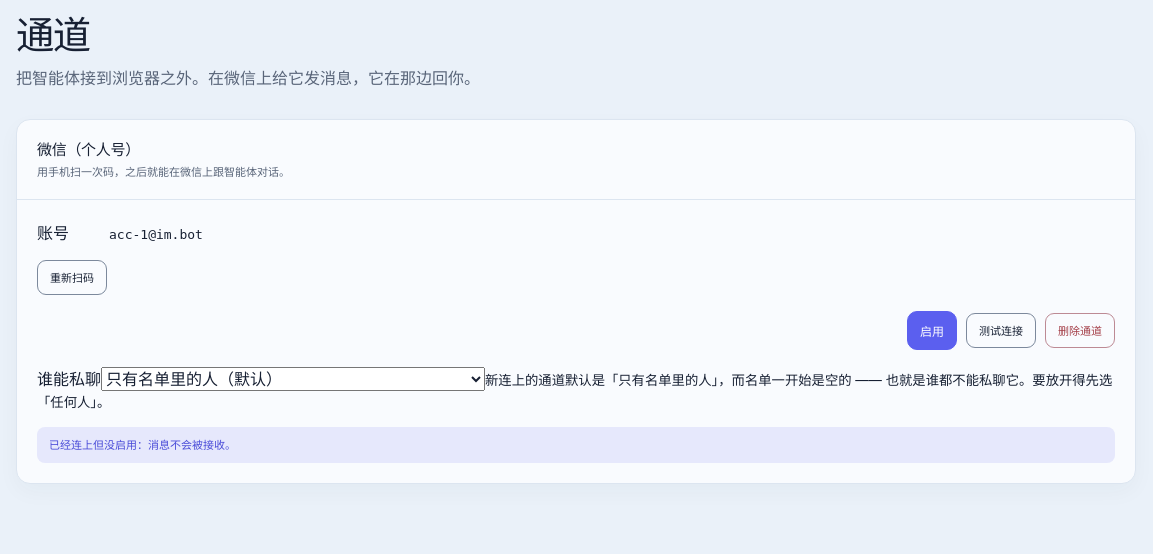
Test case: 通道页 › 点「测试连接」会打 test 端点并把结论显示出来
The image size is (1153, 554).
Click the button "测试连接": click(1001, 330) [966,313,1036,348]
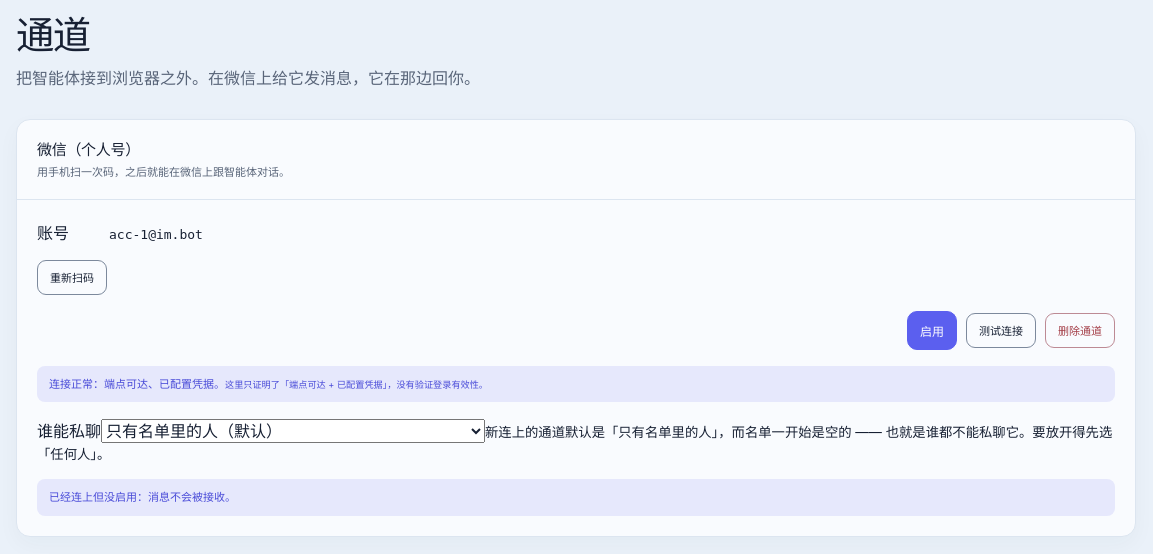
Expected: the text "连接正常：端点可达、已配置凭据。这里只证明了「端点可达 + 已配置凭据」，没有验证登录有效性。" is shown, [37,366,1115,402]
Expected: the text "这里只证明了「端点可达 + 已配置凭据」，没有验证登录有效性。" is shown, [225,379,488,390]
